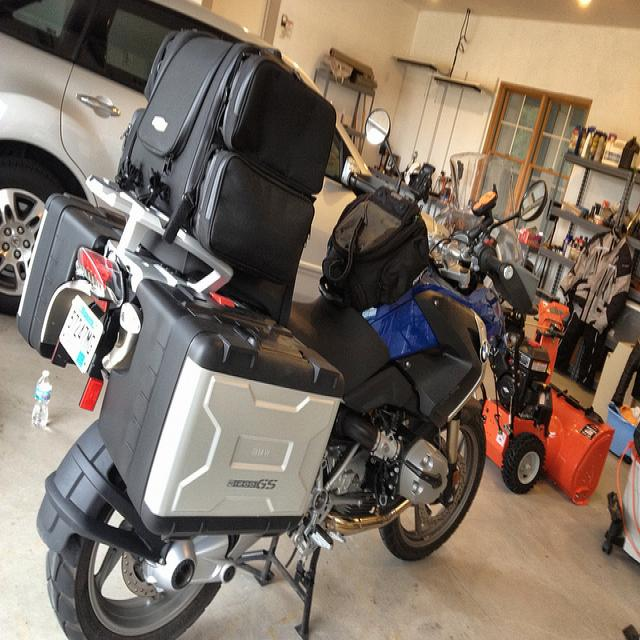motor: (32, 289, 490, 633)
